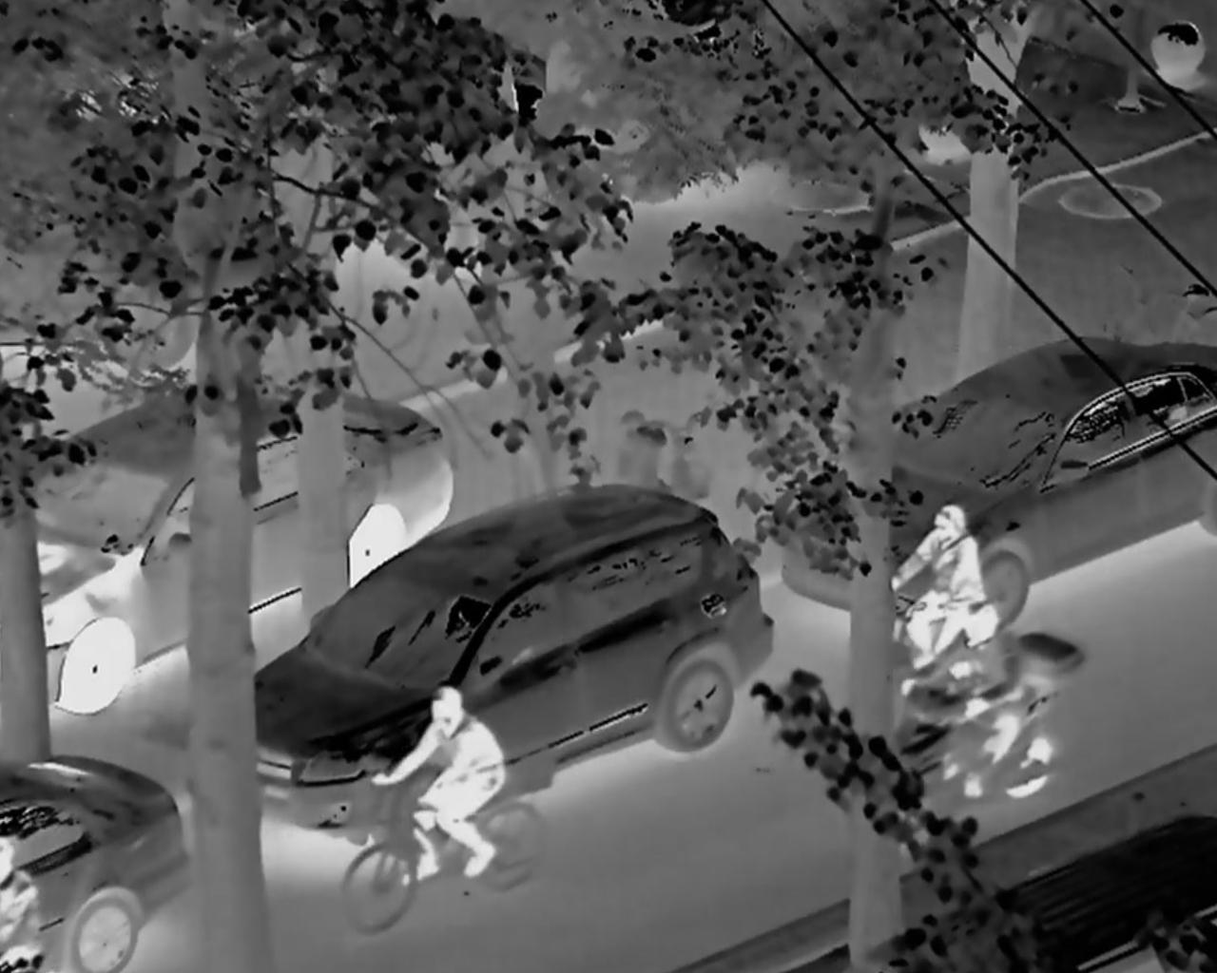person: (383, 684, 517, 896), (898, 600, 1030, 802), (880, 499, 1004, 701)
